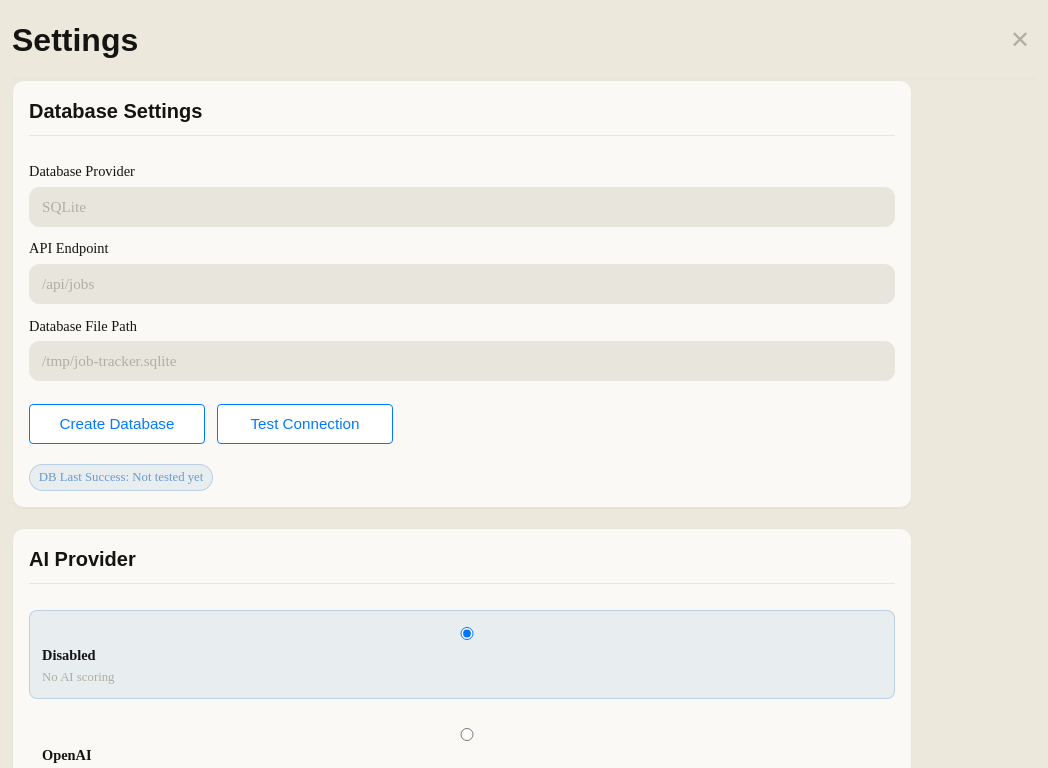
Test: SettingsView › runs create database action
Click the button "Create Database" at (117,424), box [29, 404, 205, 444]
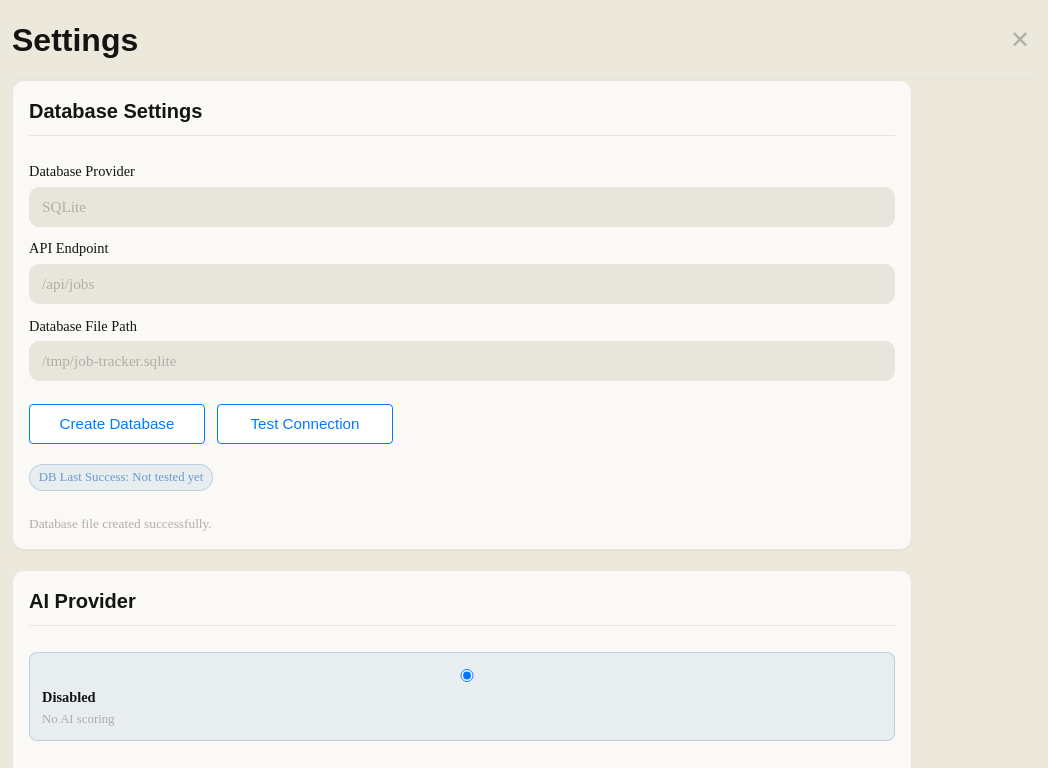
Now the text "Database file created successfully." is shown, box [29, 516, 212, 531]
